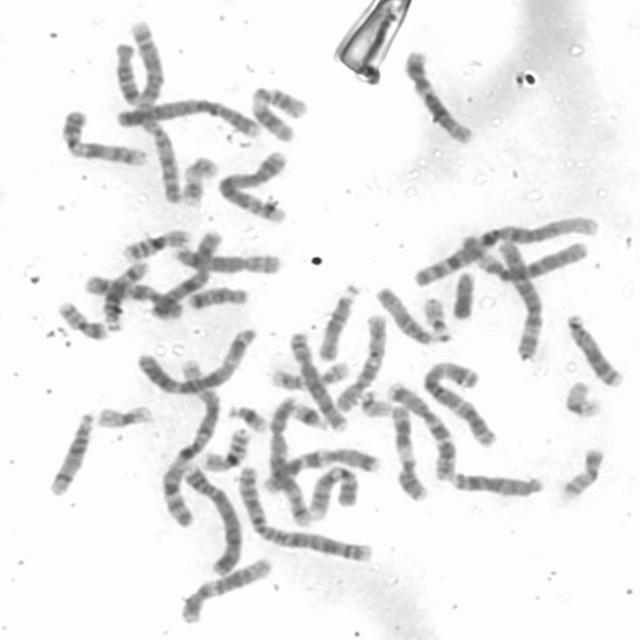A1: (411, 213, 604, 290), (160, 358, 222, 530)
A2: (235, 463, 376, 564), (128, 19, 183, 206)
A3: (137, 328, 257, 396), (422, 359, 494, 450)
B4: (180, 462, 244, 578), (115, 99, 262, 141)
B5: (270, 396, 314, 529), (217, 148, 288, 224)
C10: (334, 312, 387, 414), (81, 272, 186, 322)
C11: (389, 402, 429, 503), (251, 84, 308, 144)
C12: (398, 49, 478, 147), (176, 554, 273, 626)
C6: (458, 232, 590, 283), (494, 238, 546, 361)
C7: (387, 379, 458, 484), (260, 447, 381, 496)
C8: (290, 329, 349, 434), (173, 247, 283, 276)
C9: (60, 106, 148, 168), (307, 464, 363, 523)
D13: (562, 312, 626, 389), (449, 470, 544, 499)
D14: (43, 411, 97, 497), (100, 260, 150, 334)
D15: (316, 281, 362, 362), (373, 285, 434, 346)
E16: (121, 226, 192, 263), (199, 427, 252, 475)
E17: (268, 358, 352, 392), (181, 156, 218, 207)
E18: (112, 41, 141, 106), (186, 285, 251, 311)
F19: (560, 379, 605, 420), (96, 404, 153, 431)
F20: (559, 445, 605, 500), (56, 298, 106, 340)
G21: (228, 402, 270, 435), (292, 403, 332, 432)
G22: (420, 294, 454, 344), (360, 389, 394, 419)
X: (148, 230, 224, 320)
Y: (451, 267, 478, 320)
